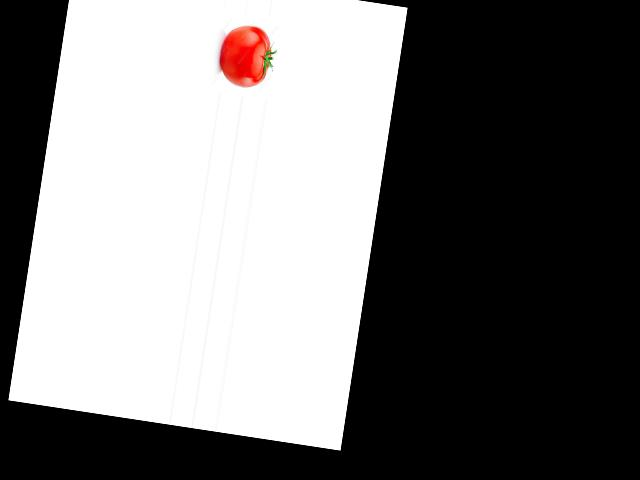tomato: (217, 21, 274, 90)
